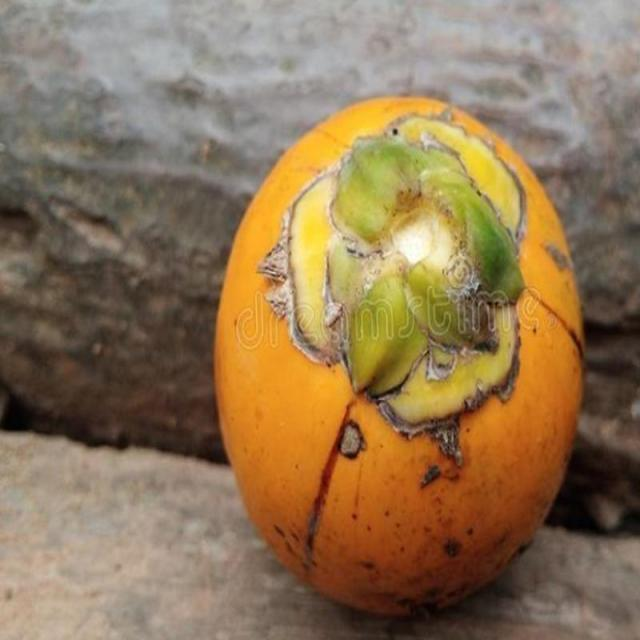good: (213, 96, 586, 621)
